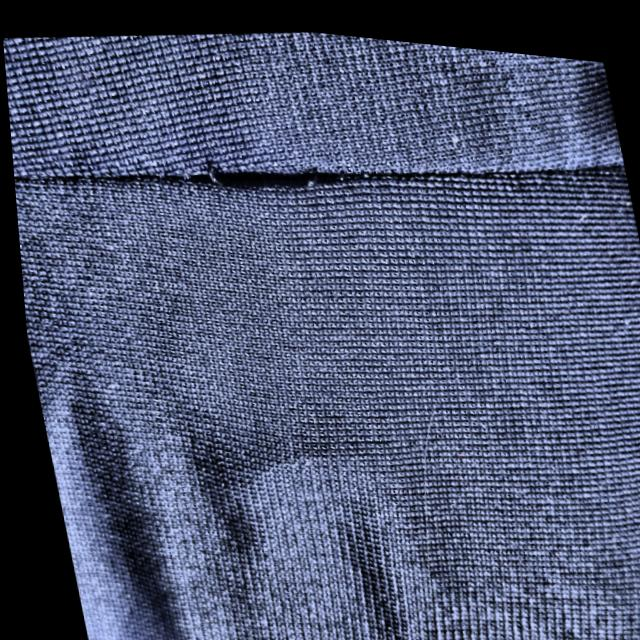seam: (121, 53, 462, 236)
